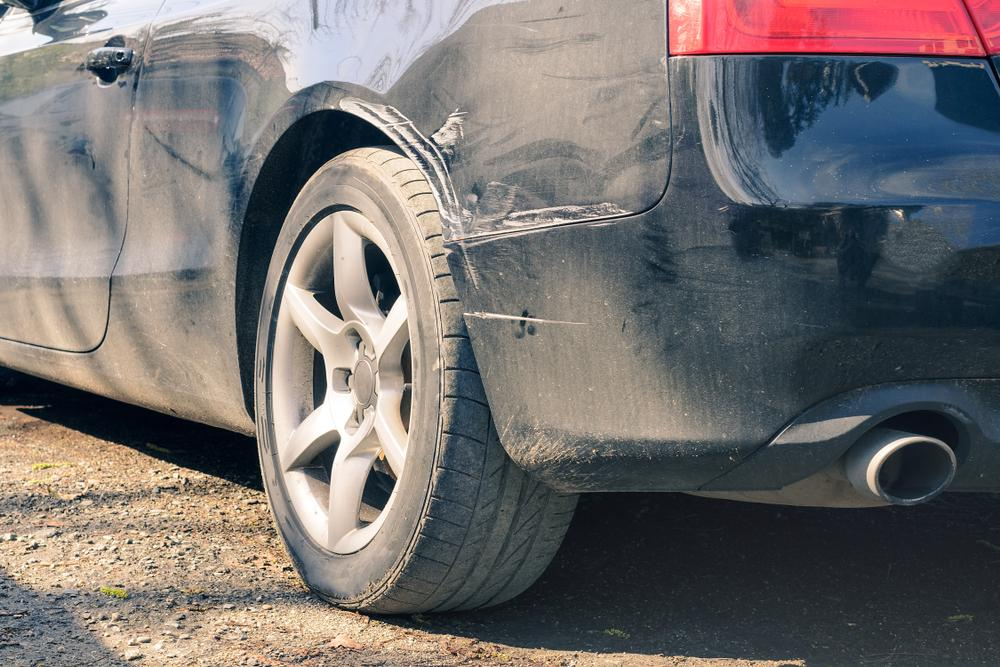scratch: (337, 98, 638, 244), (457, 309, 589, 331)
